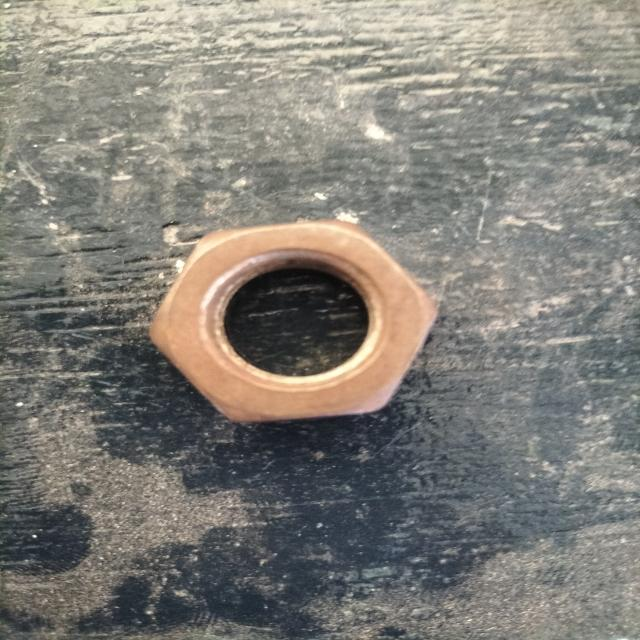nuts: (149, 220, 437, 422)
